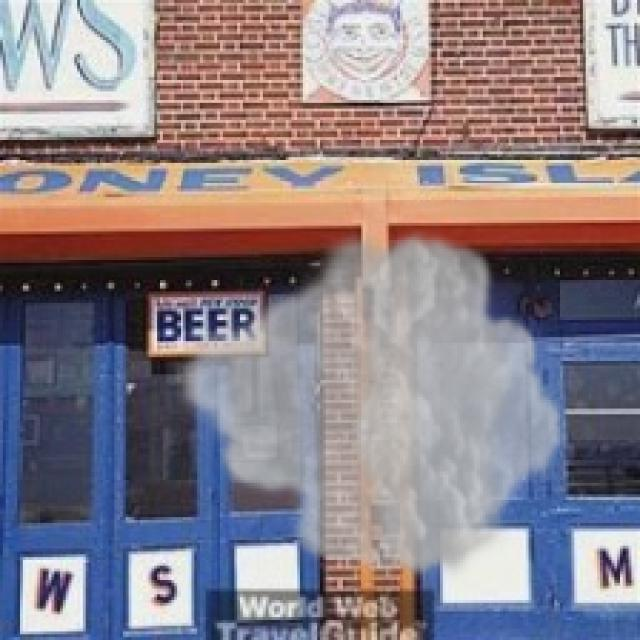Smoke: (172, 223, 568, 586)
